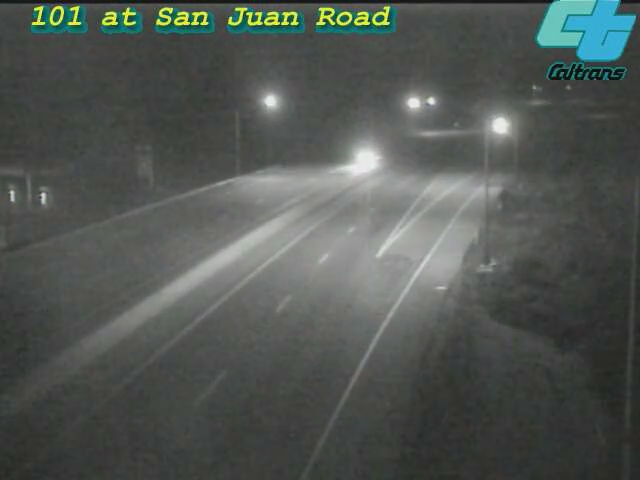vehicle: (342, 135, 392, 185), (474, 101, 524, 151)
